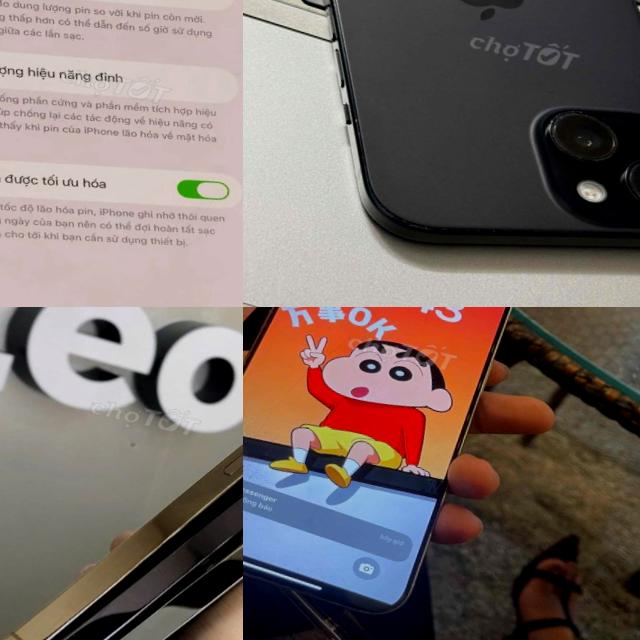gen_12_13: (0, 0, 243, 307)
gen_14: (5, 441, 243, 640)
gen_15: (243, 0, 640, 303), (243, 307, 533, 640)
